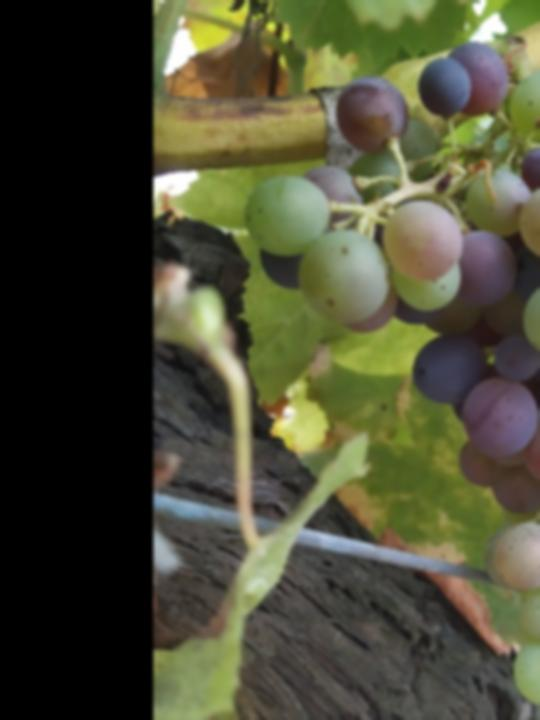grape: (242, 31, 540, 720)
